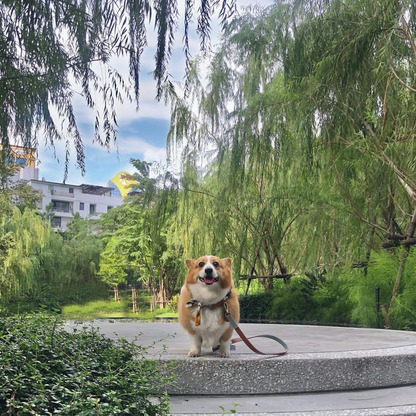Corgi: (160, 245, 290, 374)
